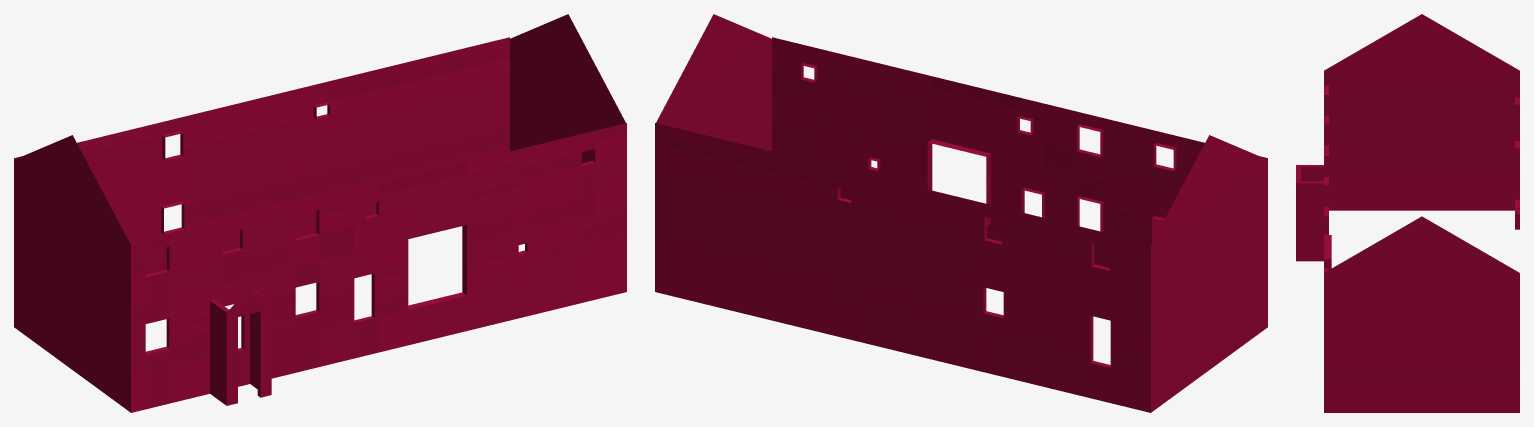
The model's file is SM_Bld_000_Masonry.glb.
The picture shows the model from 3 angles, left to right: view 1: azimuth 30°, elevation 25°; view 2: azimuth 150°, elevation 25°; view 3: azimuth 270°, elevation 25°; orthographic projection. The views are drawn at different scales.
Parts seen in each view (by area): view 1: SM_Bld_000_Masonry; view 2: SM_Bld_000_Masonry; view 3: SM_Bld_000_Masonry.
Boxes of the visible parts, x1,y1,x2,y2 form: SM_Bld_000_Masonry: [14, 14, 626, 412]; SM_Bld_000_Masonry: [655, 14, 1267, 412]; SM_Bld_000_Masonry: [1296, 14, 1519, 412].
Size of the model in its own units: 22 by 9.97 by 10.28.
